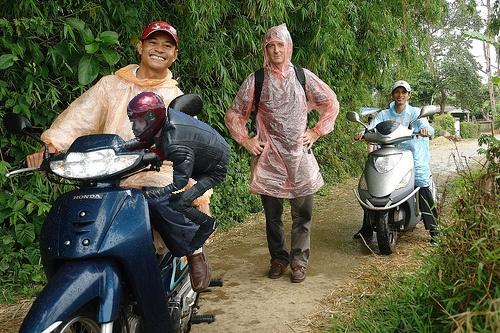tampered: (115, 92, 231, 250)
